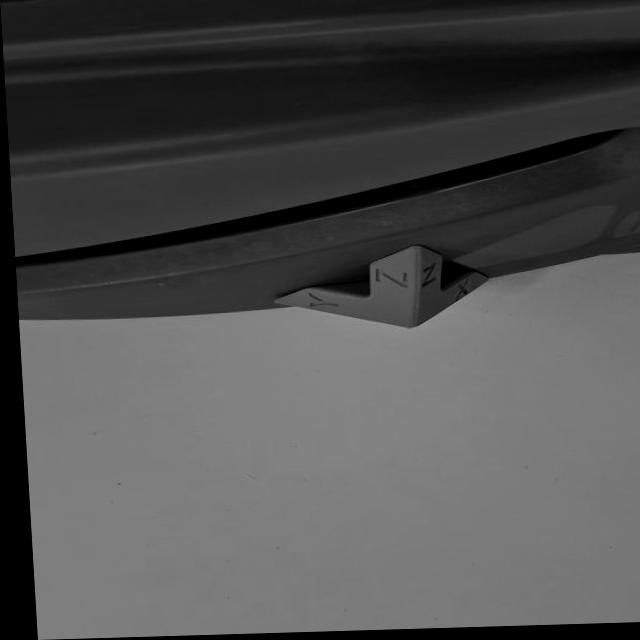eje: (269, 241, 496, 334)
